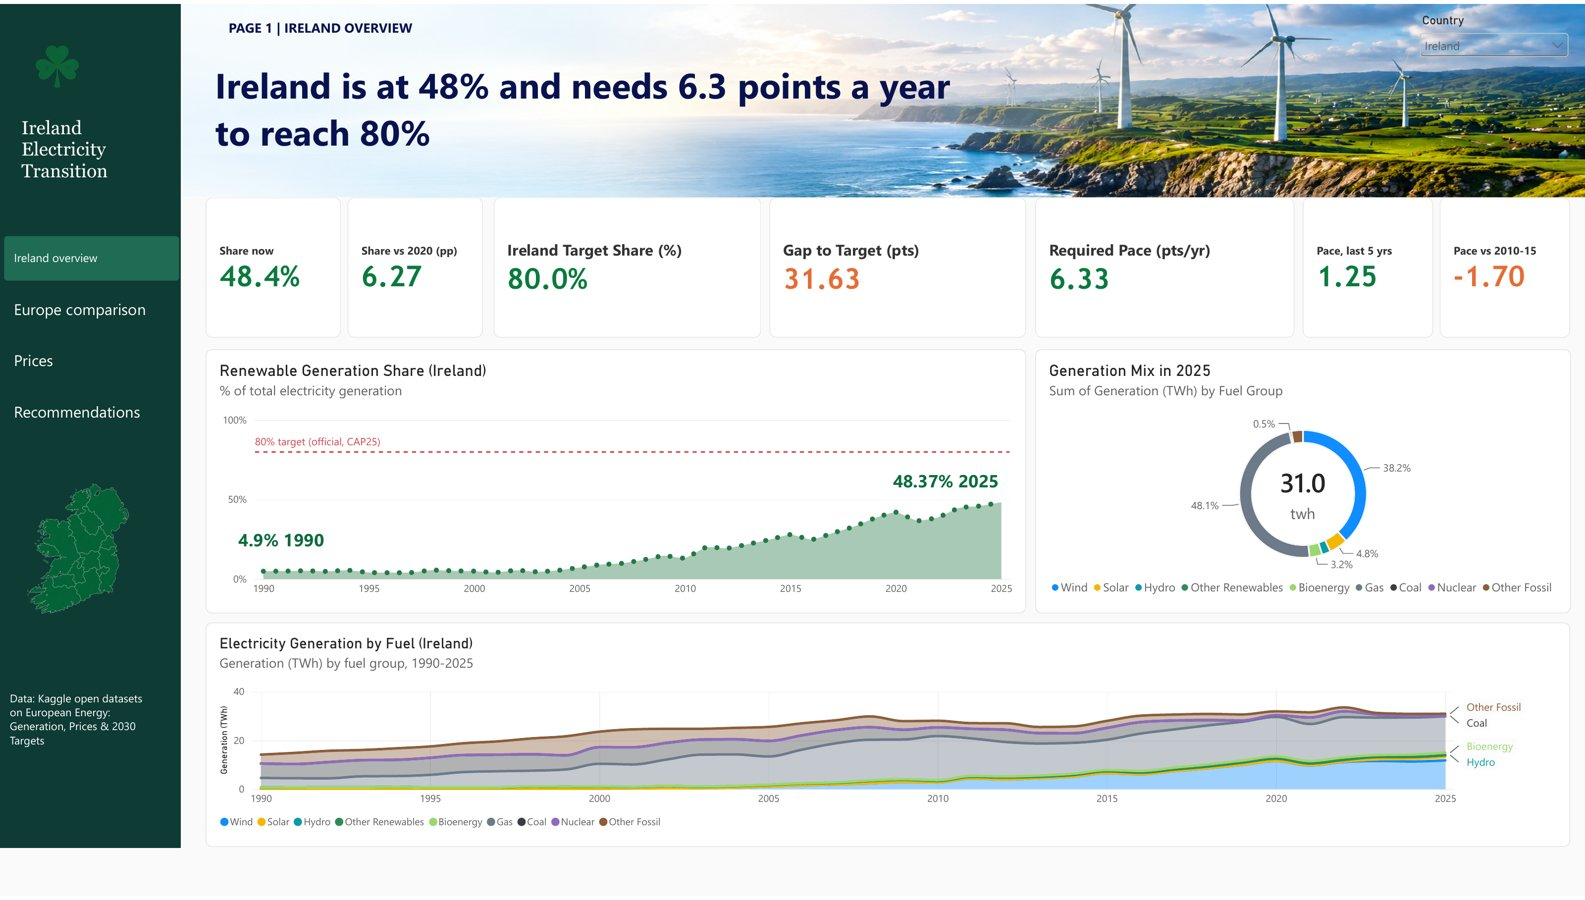

This screenshot's page, from the dashboard's own definition file:
{"tool":"powerbi","page":{"name":"Ireland overview","canvas":[1920,1080],"ordinal":0},"visuals":[{"type":"cardVisual","fields":{"Data":["Key Measures.Ireland Share Latest","Key Measures.Share vs 2020 (pp)"]},"box":[249,234,337,170],"z":0},{"type":"cardVisual","fields":{"Data":["Key Measures.Ireland Target Share (%)"]},"box":[598,234,324,170],"z":1000},{"type":"cardVisual","fields":{"Data":["Key Measures.Gap to Target (pts)"]},"box":[932,234,311,170],"z":2000},{"type":"cardVisual","fields":{"Data":["Key Measures.Required Pace (pts/yr)"]},"box":[1254,234,314,170],"z":3000},{"type":"cardVisual","fields":{"Data":["Key Measures.Pace Last 5 Yrs (pts/yr)","Key Measures.Pace vs 2010-2015 (pp)"]},"box":[1578,234,325,170],"z":4000},{"type":"areaChart","title":"Renewable Generation Share (Ireland)","fields":{"Category":["Years.year"],"Y":["Key Measures.Renewables Share %"]},"box":[249,418,994,320],"z":5000},{"type":"stackedAreaChart","title":"Electricity Generation by Fuel (Ireland)","fields":{"Category":["Years.year"],"Series":["Generation Mix.Fuel Group"],"Y":["Sum(Generation Mix.Generation (TWh))"]},"box":[249,749,1653,272],"z":6000},{"type":"donutChart","title":"Generation Mix in 2025","fields":{"Category":["Generation Mix.Fuel Group"],"Y":["Sum(Generation Mix.Generation (TWh))"]},"box":[1254,418,649,320],"z":7000},{"type":"shape","box":[0,0,219.3,1022],"z":8000},{"type":"textbox","box":[20,520,180,140],"z":9000},{"type":"pageNavigator","box":[5,281,212,241],"z":10000},{"type":"actionButton","box":[14,131,171,121],"z":11000},{"type":"actionButton","box":[0,825.5,197.9,102],"z":12000},{"type":"image","box":[221,0,1699.2,233.5],"z":13000},{"type":"slicer","fields":{"Values":["Countries.Country"]},"box":[1715,11.8,190,60],"z":17000},{"type":"actionButton","box":[248.5,62.1,942.9,129.7],"z":18000},{"type":"actionButton","box":[265,12,1100,35],"z":19000},{"type":"actionButton","box":[264.1,620.9,153.8,55.2],"z":20000},{"type":"actionButton","box":[1050.7,550,190,55],"z":21000},{"type":"image","box":[27.5,45.8,84.7,59.5],"z":22000},{"type":"image","box":[16,567.5,164.8,180.8],"z":23000}]}

Visuals, with their boxes in screenshot pixels (x1, y1, x2, y2), scaled from the page's 1920x1080 canvas onto the 1585x900 screenshot:
cardVisual - Key Measures.Ireland Share Latest x Key Measures.Share vs 2020 (pp): {"x1": 206, "y1": 195, "x2": 484, "y2": 337}
cardVisual - Key Measures.Ireland Target Share (%): {"x1": 494, "y1": 195, "x2": 761, "y2": 337}
cardVisual - Key Measures.Gap to Target (pts): {"x1": 769, "y1": 195, "x2": 1026, "y2": 337}
cardVisual - Key Measures.Required Pace (pts/yr): {"x1": 1035, "y1": 195, "x2": 1294, "y2": 337}
cardVisual - Key Measures.Pace Last 5 Yrs (pts/yr) x Key Measures.Pace vs 2010-2015 (pp): {"x1": 1303, "y1": 195, "x2": 1571, "y2": 337}
"Renewable Generation Share (Ireland)" areaChart: {"x1": 206, "y1": 348, "x2": 1026, "y2": 615}
"Electricity Generation by Fuel (Ireland)" stackedAreaChart: {"x1": 206, "y1": 624, "x2": 1570, "y2": 851}
"Generation Mix in 2025" donutChart: {"x1": 1035, "y1": 348, "x2": 1571, "y2": 615}
shape: {"x1": 0, "y1": 0, "x2": 181, "y2": 852}
textbox: {"x1": 17, "y1": 433, "x2": 165, "y2": 550}
pageNavigator: {"x1": 4, "y1": 234, "x2": 179, "y2": 435}
actionButton: {"x1": 12, "y1": 109, "x2": 153, "y2": 210}
actionButton: {"x1": 0, "y1": 688, "x2": 163, "y2": 773}
image: {"x1": 182, "y1": 0, "x2": 1584, "y2": 195}
slicer - Countries.Country: {"x1": 1416, "y1": 10, "x2": 1573, "y2": 60}
actionButton: {"x1": 205, "y1": 52, "x2": 984, "y2": 160}
actionButton: {"x1": 219, "y1": 10, "x2": 1127, "y2": 39}
actionButton: {"x1": 218, "y1": 517, "x2": 345, "y2": 563}
actionButton: {"x1": 867, "y1": 458, "x2": 1024, "y2": 504}
image: {"x1": 23, "y1": 38, "x2": 93, "y2": 88}
image: {"x1": 13, "y1": 473, "x2": 149, "y2": 624}
